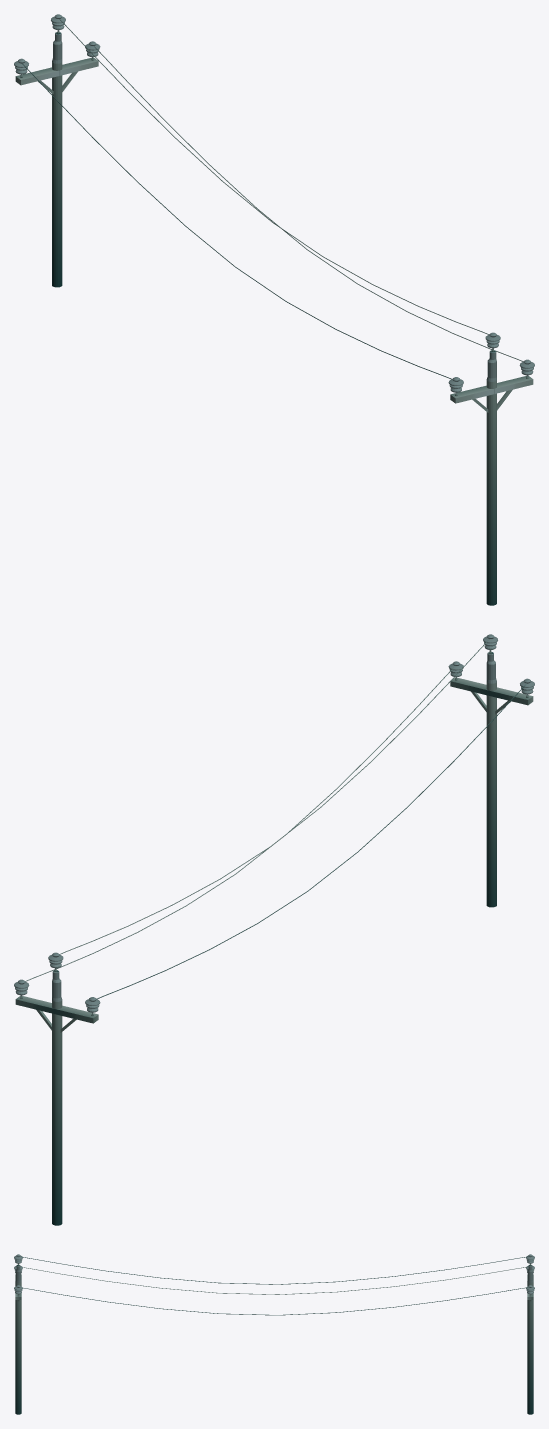
Rendered from Poste_de_Electicidad.fbx.
3 renders of one model, top to bottom at view 1: azimuth 30°, elevation 25°; view 2: azimuth 150°, elevation 25°; view 3: azimuth 270°, elevation 25°, orthographic. The views are drawn at different scales.
Visible parts, largest first — view 1: Pole, Pole1, Wire; view 2: Pole1, Pole, Wire; view 3: Wire, Pole, Pole1.
Boxes of the visible parts, x1,y1,x2,y2 form: Pole: (448, 332, 534, 605); Pole1: (14, 14, 100, 287); Wire: (22, 19, 523, 379); Pole1: (14, 952, 100, 1225); Pole: (448, 634, 534, 907); Wire: (25, 639, 525, 999); Wire: (21, 1256, 528, 1315); Pole: (14, 1254, 22, 1414); Pole1: (526, 1254, 534, 1414).
Size of the model in its own units: 1828 by 5585 by 16600.
1 material, 1 textured.
